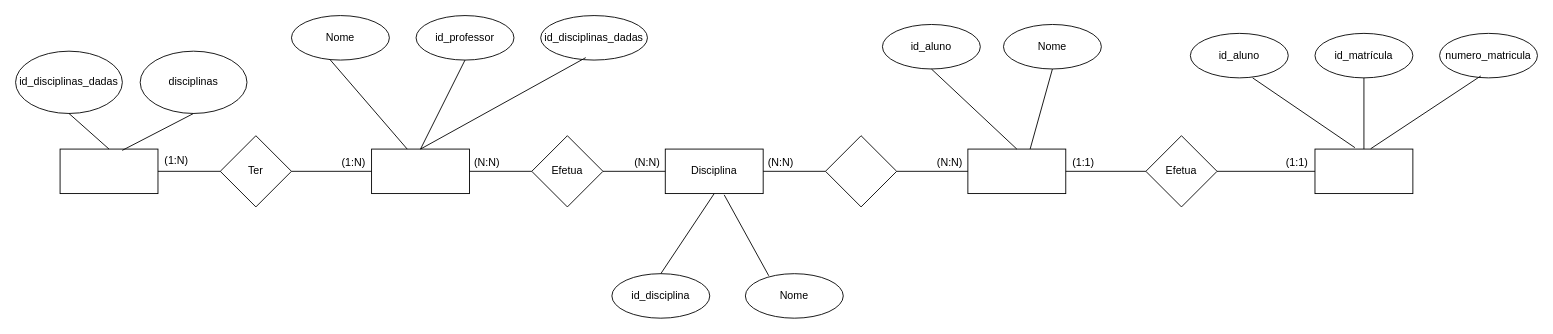
Image size: 1553x334. Some labels were removed from this diagram. The shapes that lost their labels are listed below. From the top down, each one's box as (x1, y1, x2, y2) in pixels, then its label:
(59, 148, 158, 194): disciplinas_dadas
(371, 148, 469, 194): Professor
(825, 135, 897, 207): faz
(967, 148, 1066, 194): Aluno
(1314, 148, 1413, 194): Matrícula
